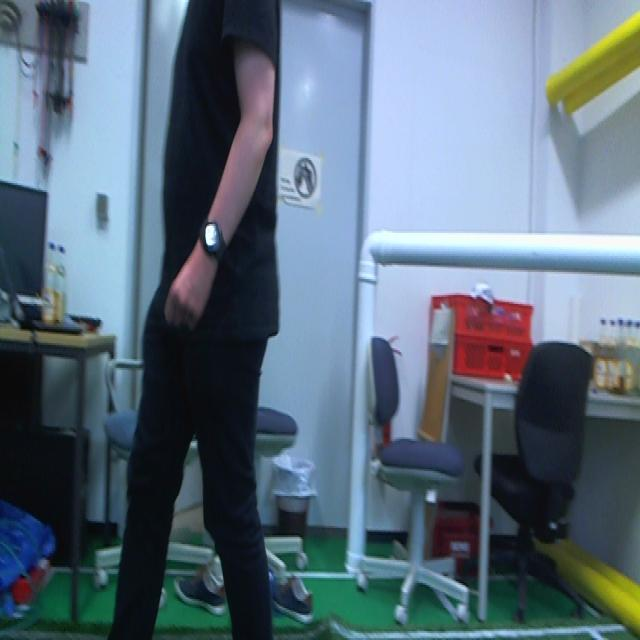goalpost: (343, 235, 381, 572)
